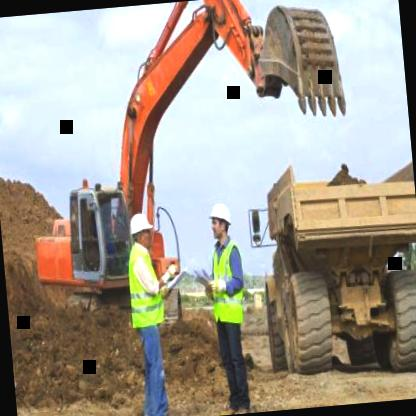helmet: (206, 197, 235, 247), (126, 210, 155, 253)
